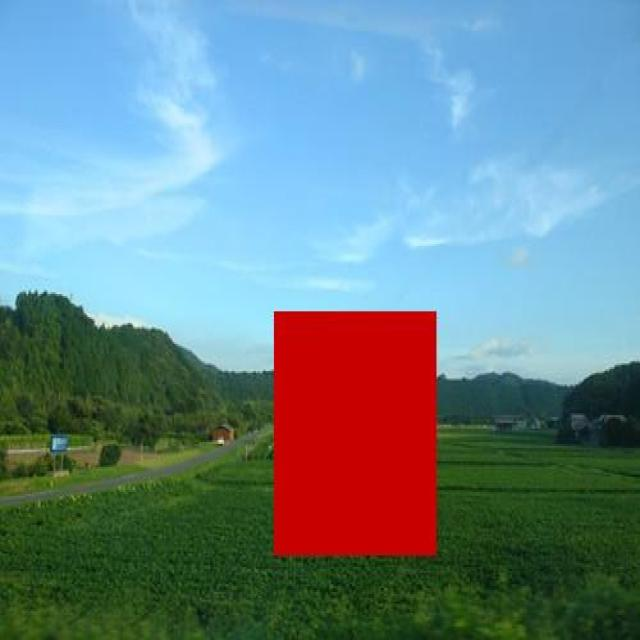RedSquare: (271, 299, 441, 562)
